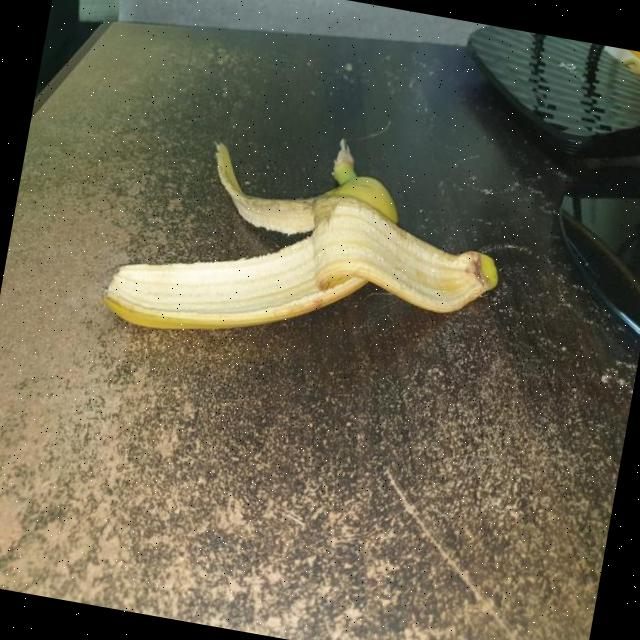banana-peel: (98, 100, 518, 387)
